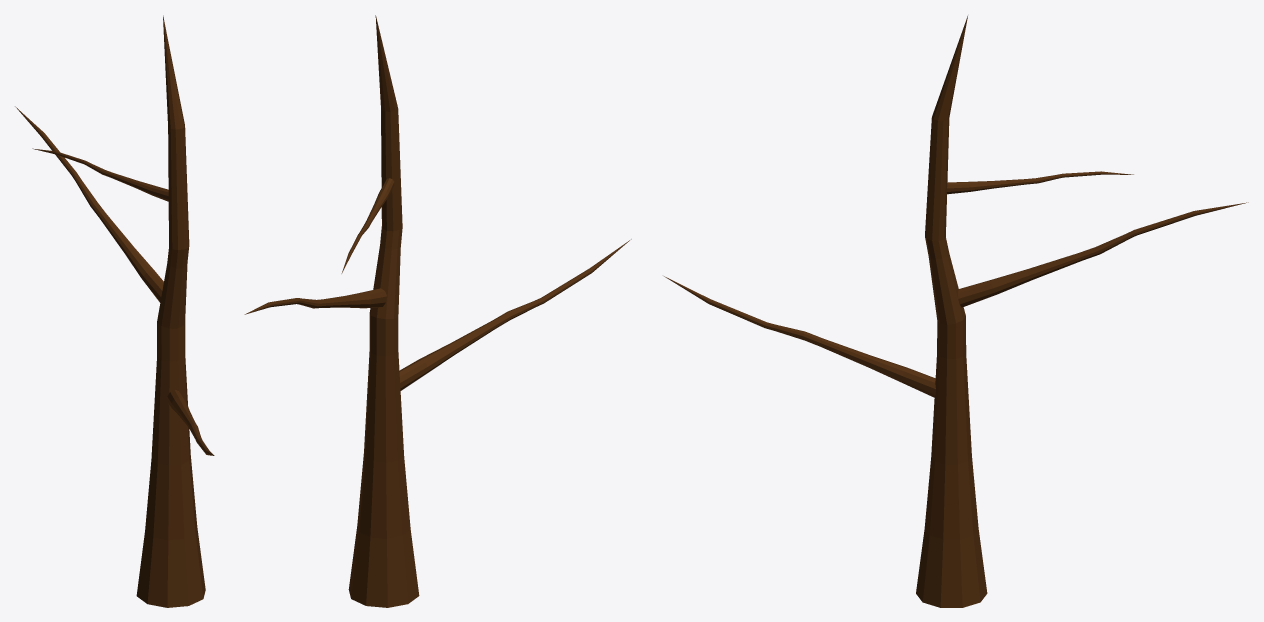
File: Maple_Tree_Tall_Bare_002.fbx
3 views of the same model, side by side, from view 1: azimuth 30°, elevation 25°; view 2: azimuth 150°, elevation 25°; view 3: azimuth 270°, elevation 25° (orthographic). The views are drawn at different scales.
Parts seen in each view (by area): view 1: Maple Tree Tall Bare.002; view 2: Maple Tree Tall Bare.002; view 3: Maple Tree Tall Bare.002.
Part boxes in pixels (box(x1,y1,x2,y2)): Maple Tree Tall Bare.002: box(15, 15, 214, 607); Maple Tree Tall Bare.002: box(244, 15, 631, 607); Maple Tree Tall Bare.002: box(664, 16, 1248, 607).
Bounding box in the file's own units: 87.17 × 370 × 341.
